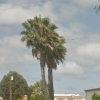Palm tree: (19, 12, 71, 100)
